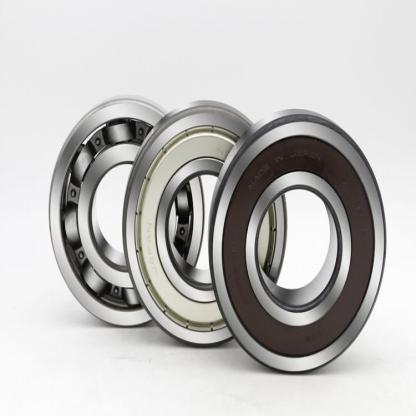FOD: (206, 104, 389, 376), (118, 94, 289, 352), (45, 94, 200, 340)
